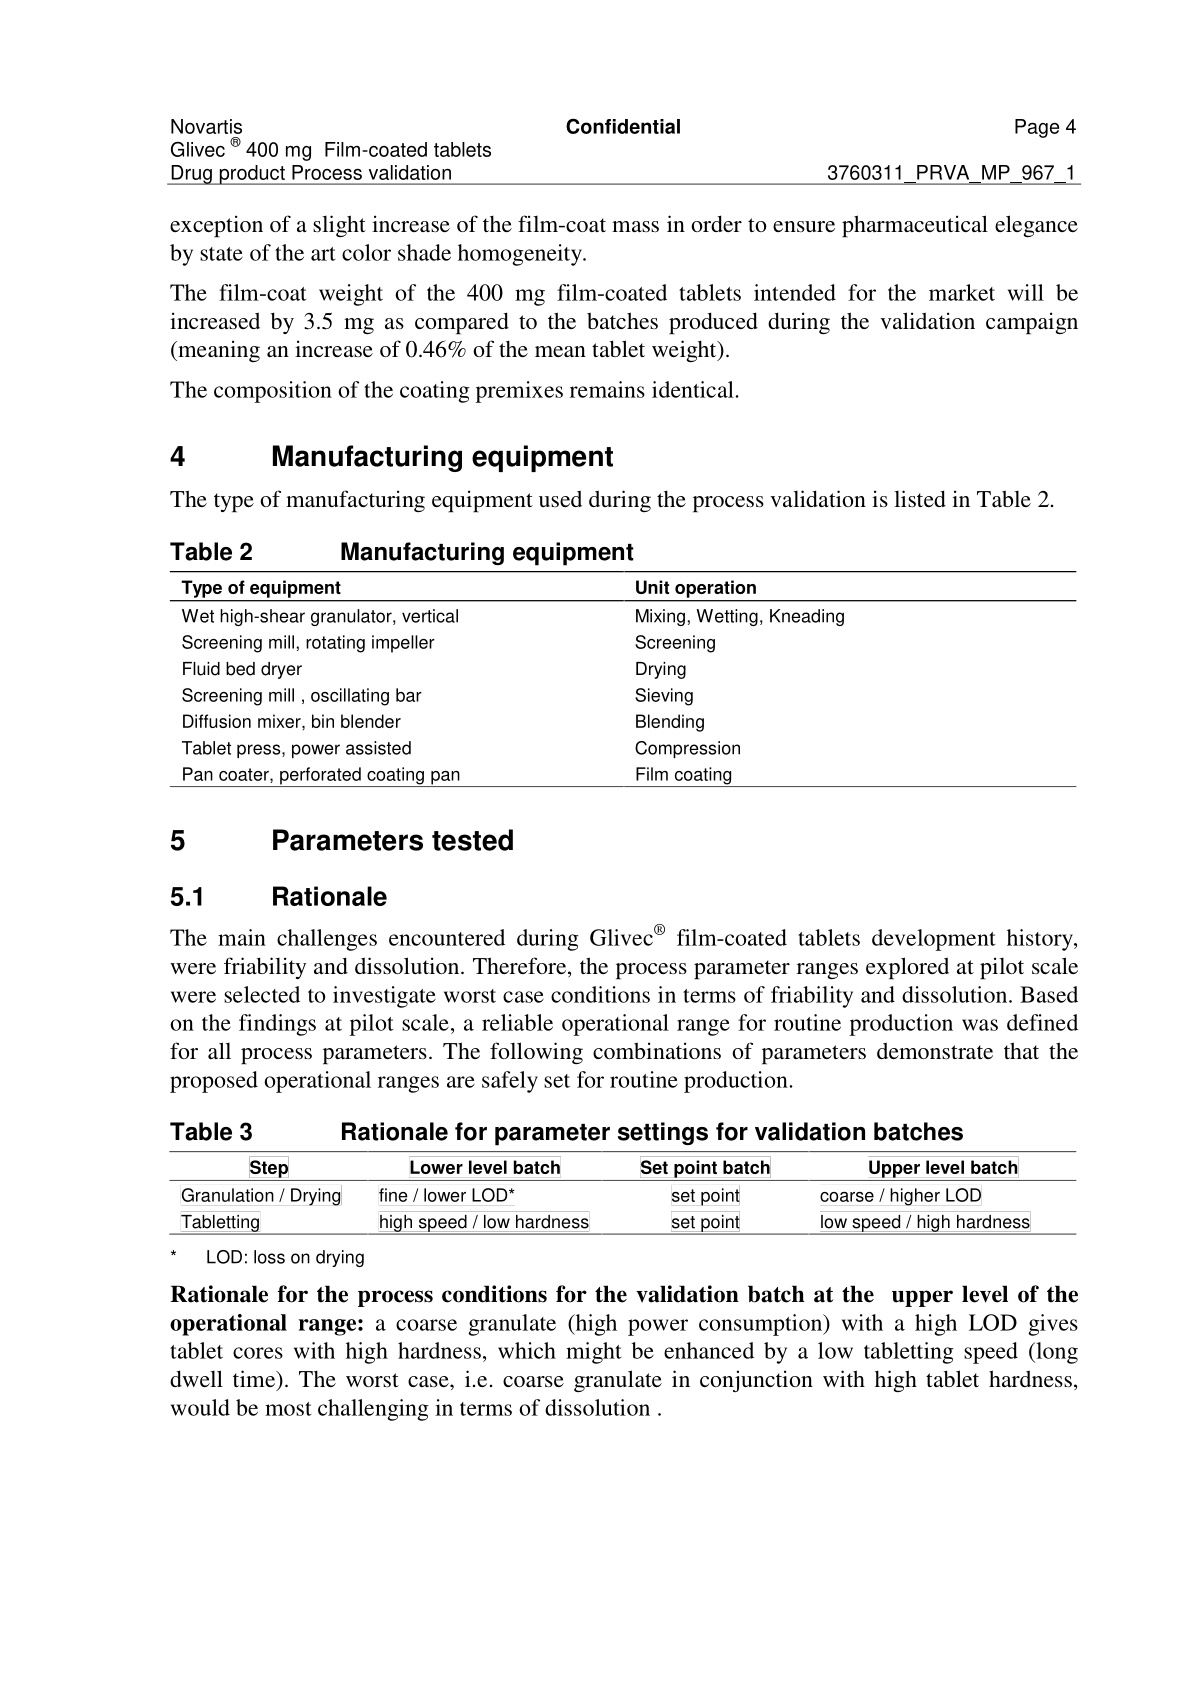partial_lined: (170, 569, 1078, 789), (167, 1148, 1081, 1237)
